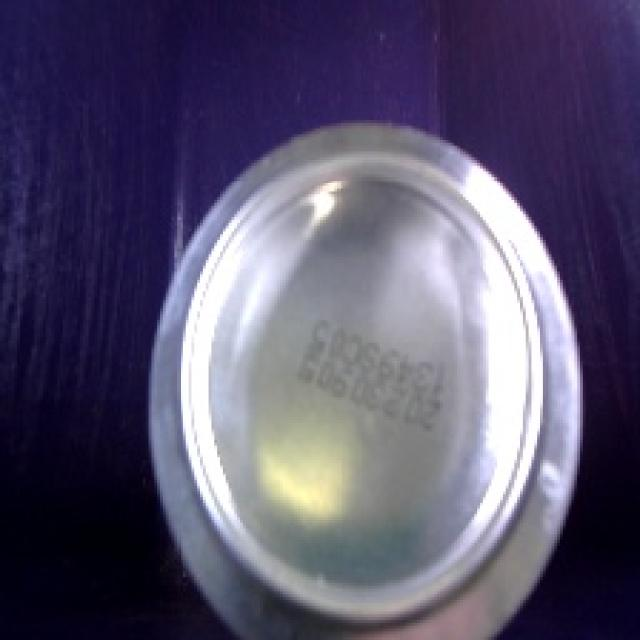metal: (120, 105, 600, 640)
